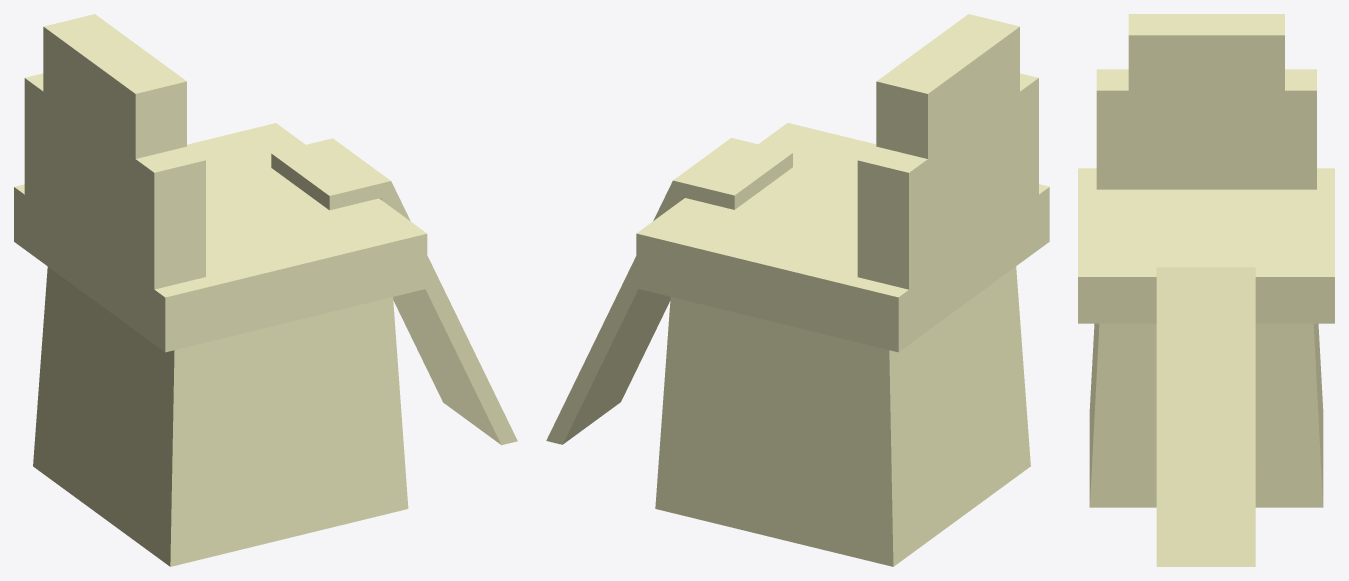
File: jacob_ladder_map_node_icon.fbx
3 views of the same model, side by side, from view 1: azimuth 30°, elevation 25°; view 2: azimuth 150°, elevation 25°; view 3: azimuth 270°, elevation 25° (orthographic). The views are drawn at different scales.
Parts seen in each view (by area): view 1: map_node; view 2: map_node; view 3: map_node.
Boxes of the visible parts, bbox=[...] form: map_node: bbox=[14, 14, 517, 566]; map_node: bbox=[546, 14, 1049, 566]; map_node: bbox=[1078, 14, 1334, 566].
Size of the model in its own units: 530 by 583 by 348.
